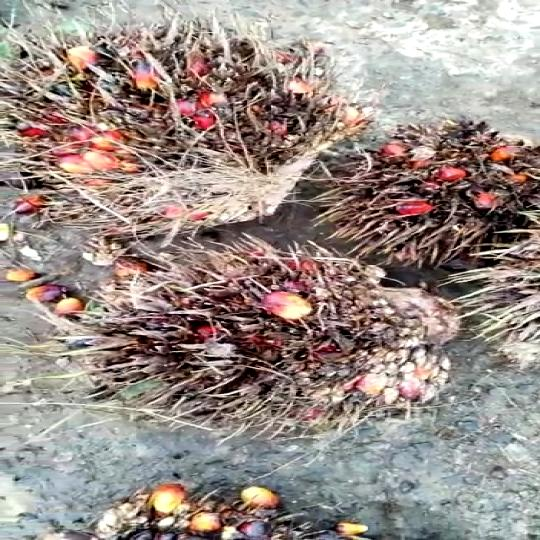terlalu masak: (0, 24, 384, 236), (42, 250, 481, 435), (299, 110, 540, 262)
